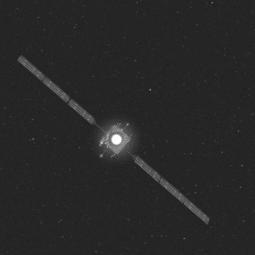smart_1: (72, 93, 161, 185)
